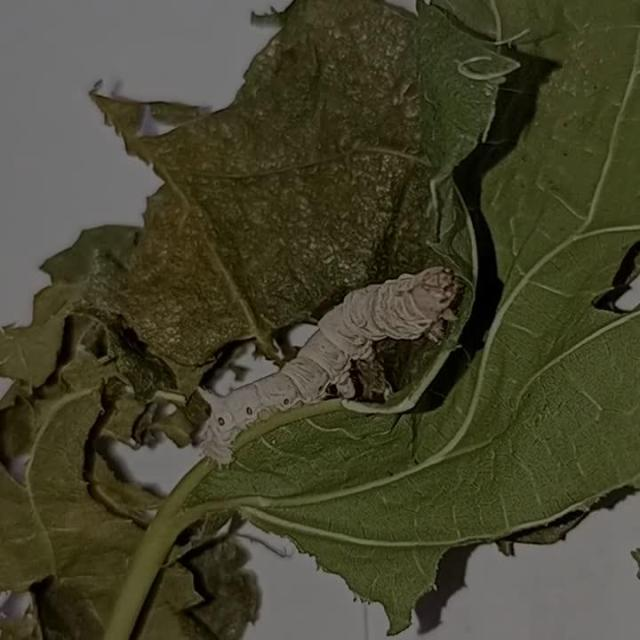Healthy: (174, 246, 483, 477)
